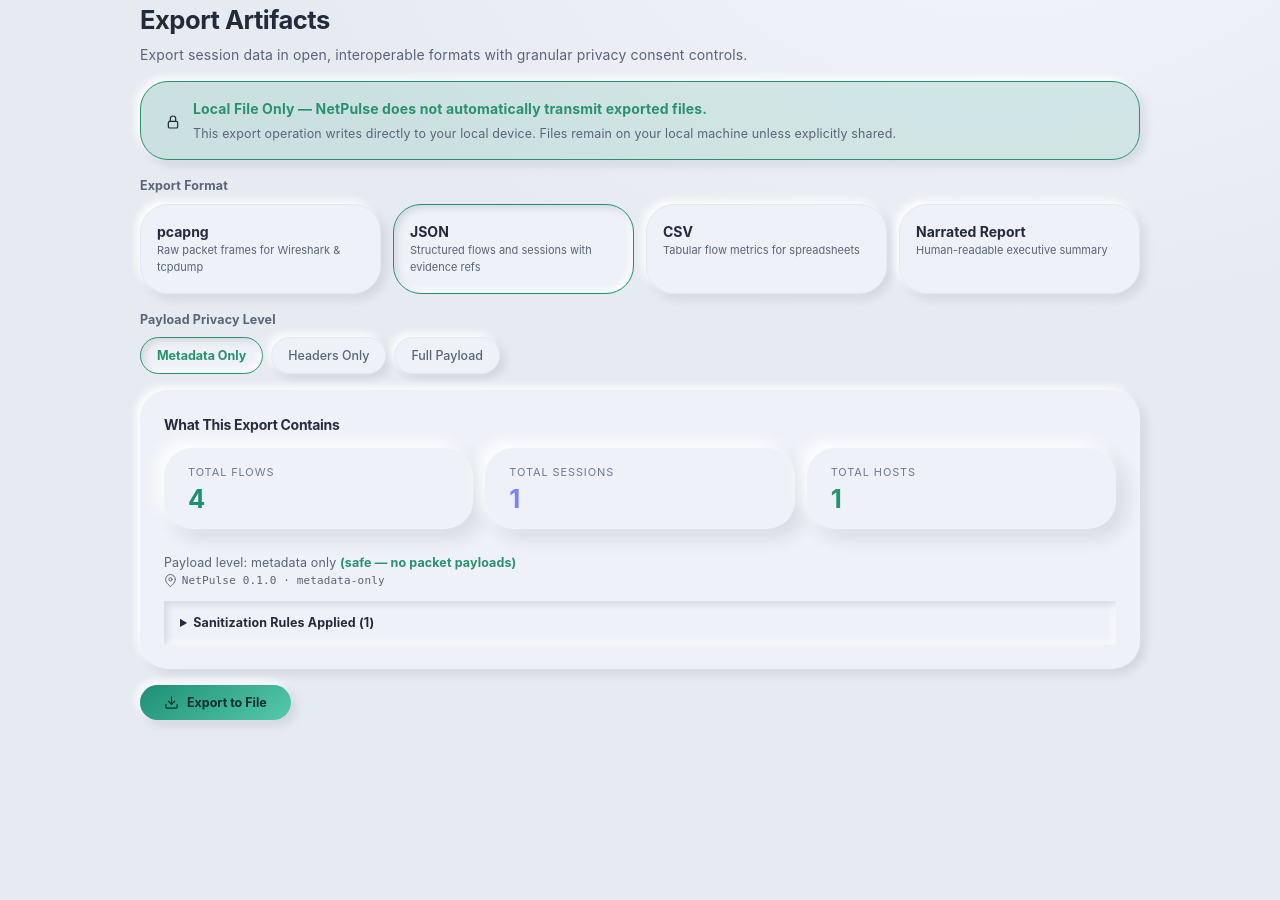
Test: Export Screen & useExportController › states that no path was reported when the command omits an artifact
Click the button "Export to File" at (215, 702), box x1=140 y1=685 x2=291 y2=720
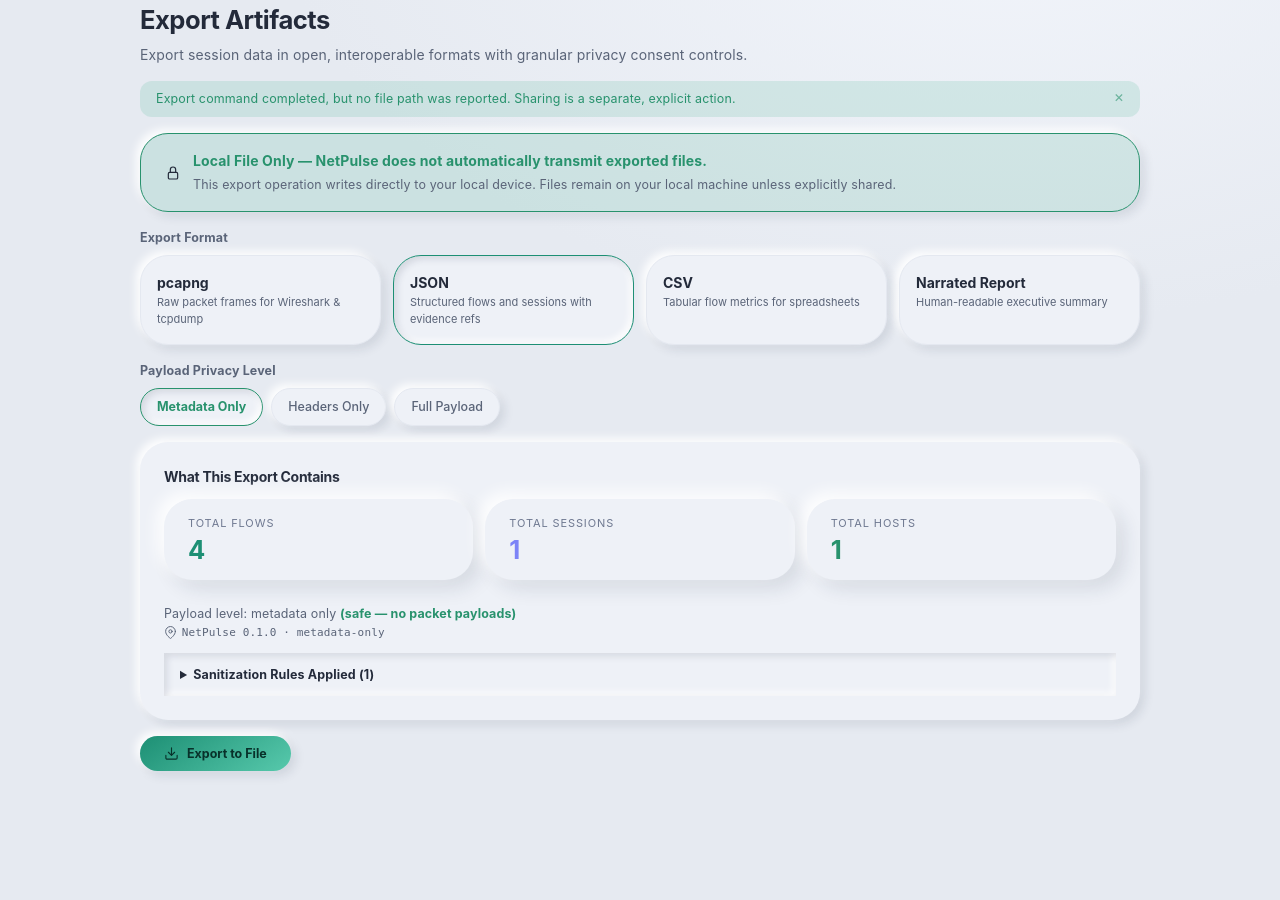
Expected: the text "no file path was reported" is shown, x1=156 y1=91 x2=736 y2=106
